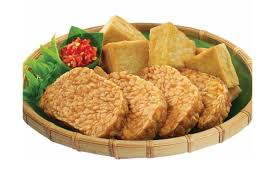Tempe goreng: (39, 67, 130, 141), (109, 71, 168, 145), (147, 65, 203, 141), (185, 69, 232, 131)
